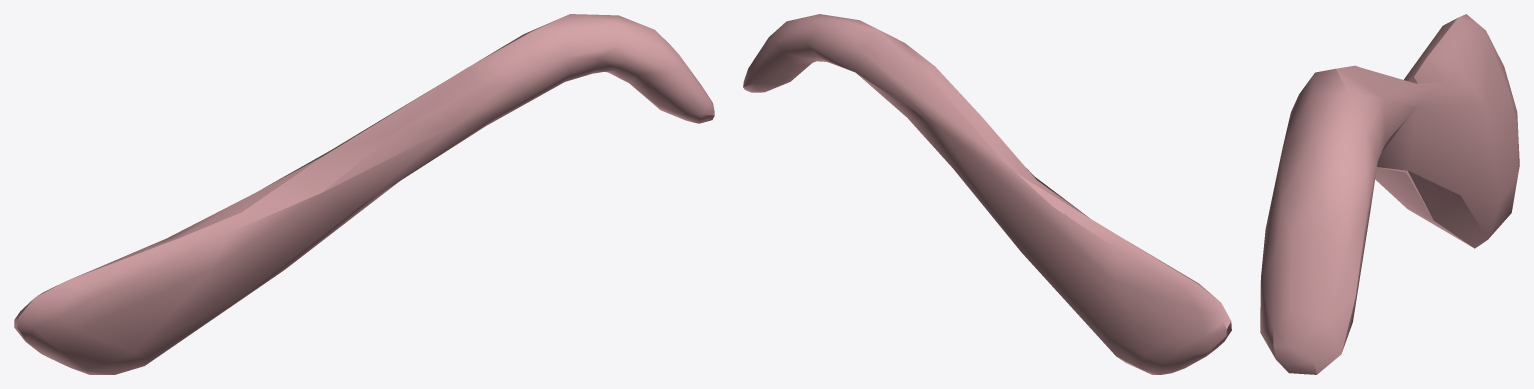
Rendered from fma59575_mm2241.glb.
3 renders of one model, left to right at view 1: azimuth 30°, elevation 25°; view 2: azimuth 150°, elevation 25°; view 3: azimuth 270°, elevation 25°, orthographic. The views are drawn at different scales.
Parts seen in each view (by area): view 1: FMA59575_MM2241; view 2: FMA59575_MM2241; view 3: FMA59575_MM2241.
Boxes of the visible parts, x1,y1,x2,y2 form: FMA59575_MM2241: [14, 14, 714, 374]; FMA59575_MM2241: [743, 14, 1231, 374]; FMA59575_MM2241: [1260, 14, 1519, 374].
Bounding box in the file's own units: 0.00506 × 0.0022 × 0.00116.
